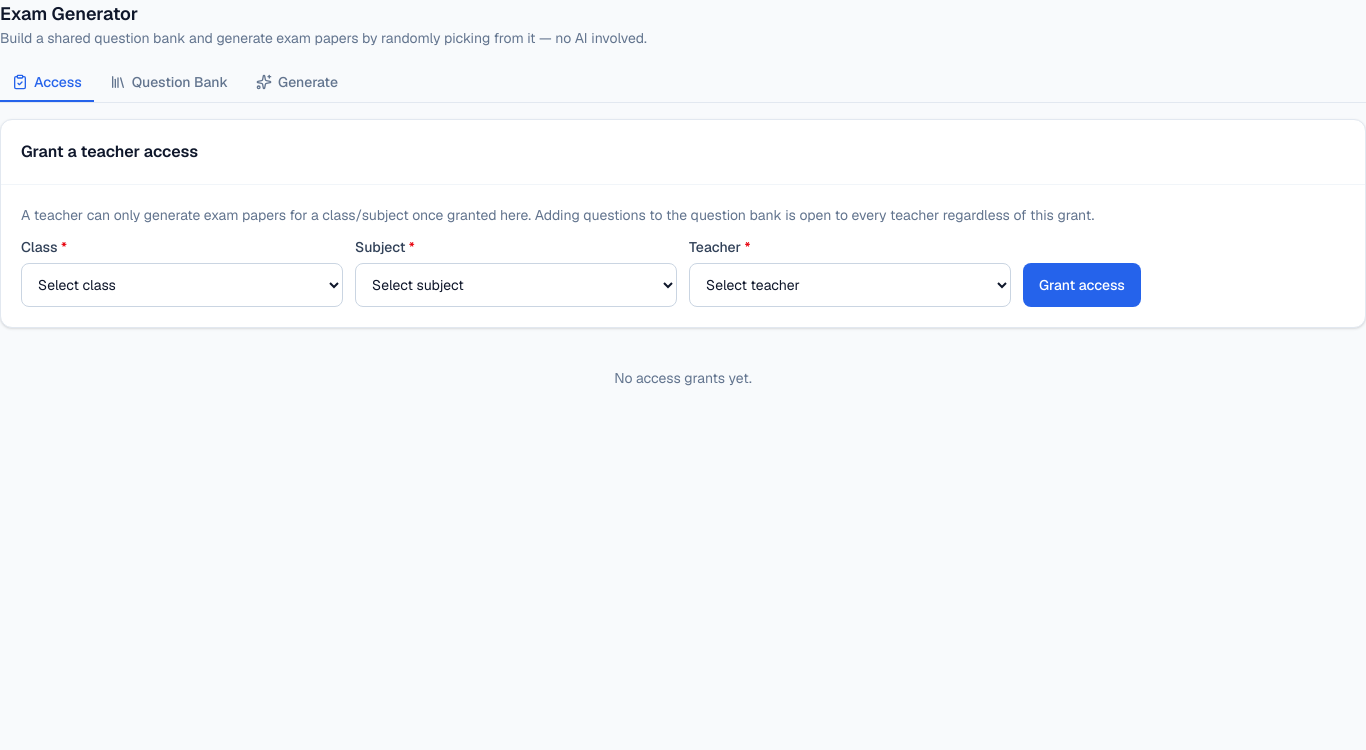
Scenario: ExamGeneratorPage › Question Bank tab › switches fields by question type and validates MCQ options before submitting
This screenshot has width=1366, height=750.
Step 1. Click the button "Question Bank" → (169, 83), box [98,64,240,102]
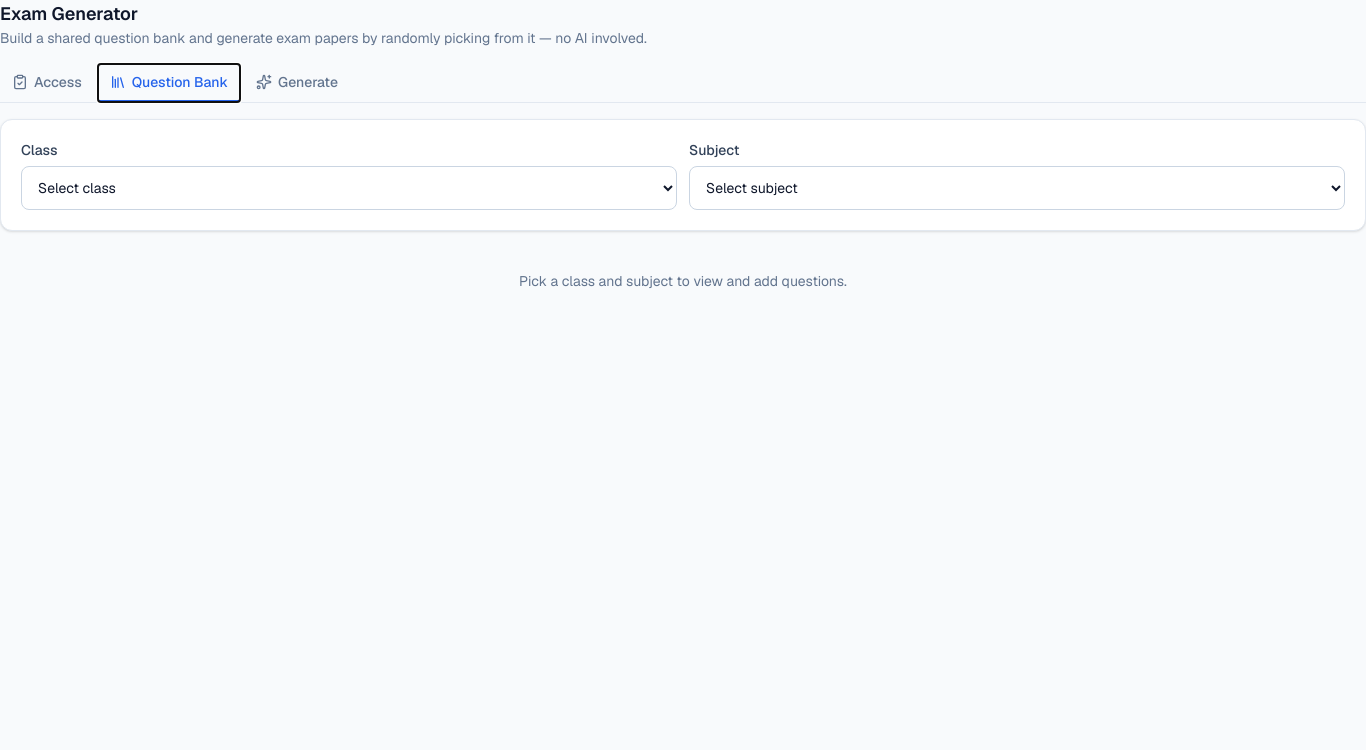
Step 2. Select "Class 5" in the dropdown labelled "Class" → (349, 188), box [21,166,677,210]
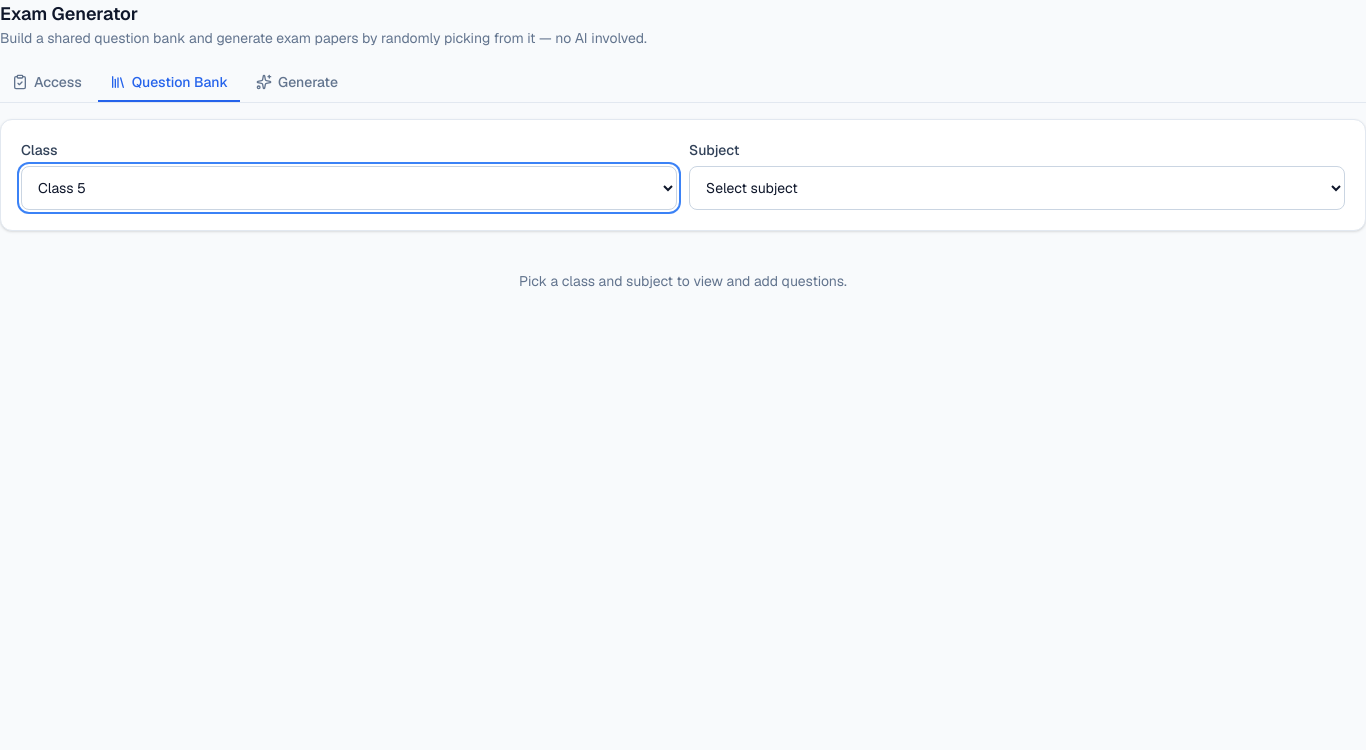
Step 3. Select "Mathematics" in the dropdown labelled "Subject" → (1017, 188), box [689,166,1345,210]
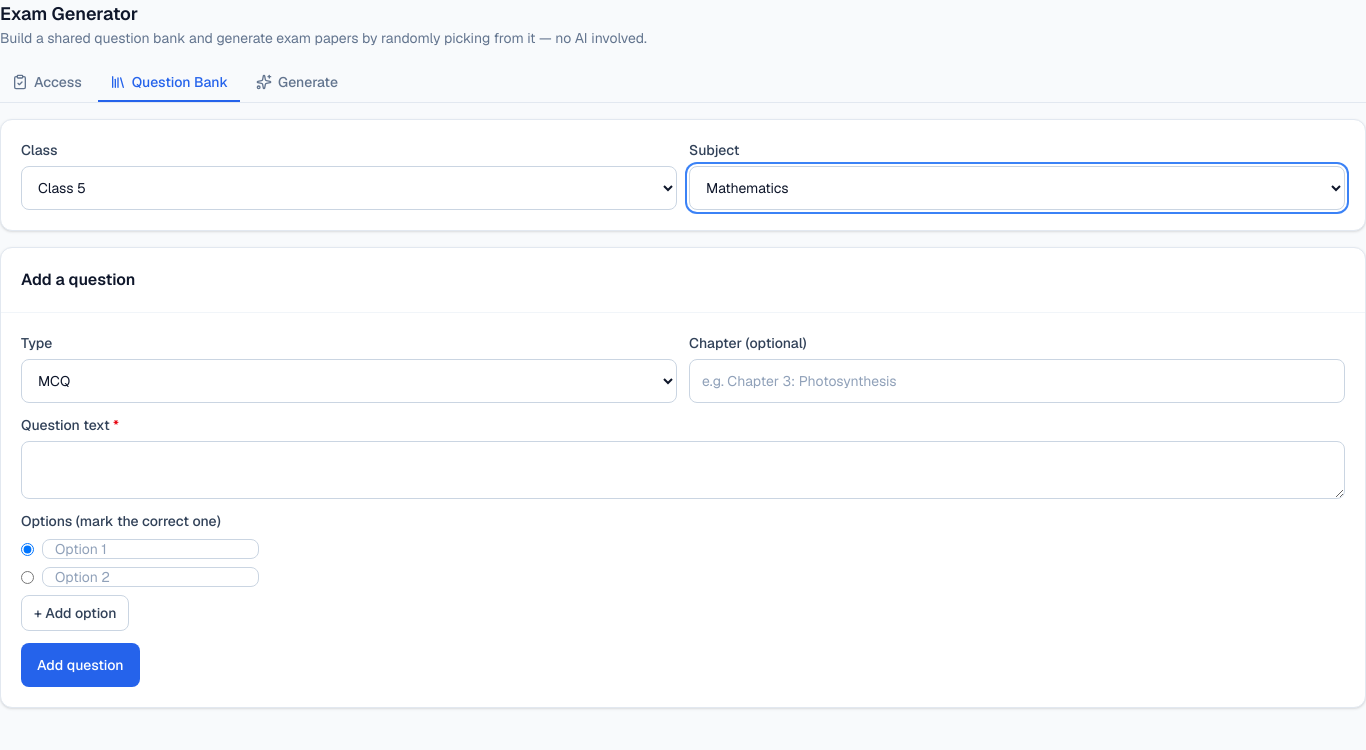
Expected: the text "Options (mark the correct one)" is shown, [21,512,221,530]
Step 4. Click the button "Add question" → (80, 665), box [21,643,140,687]
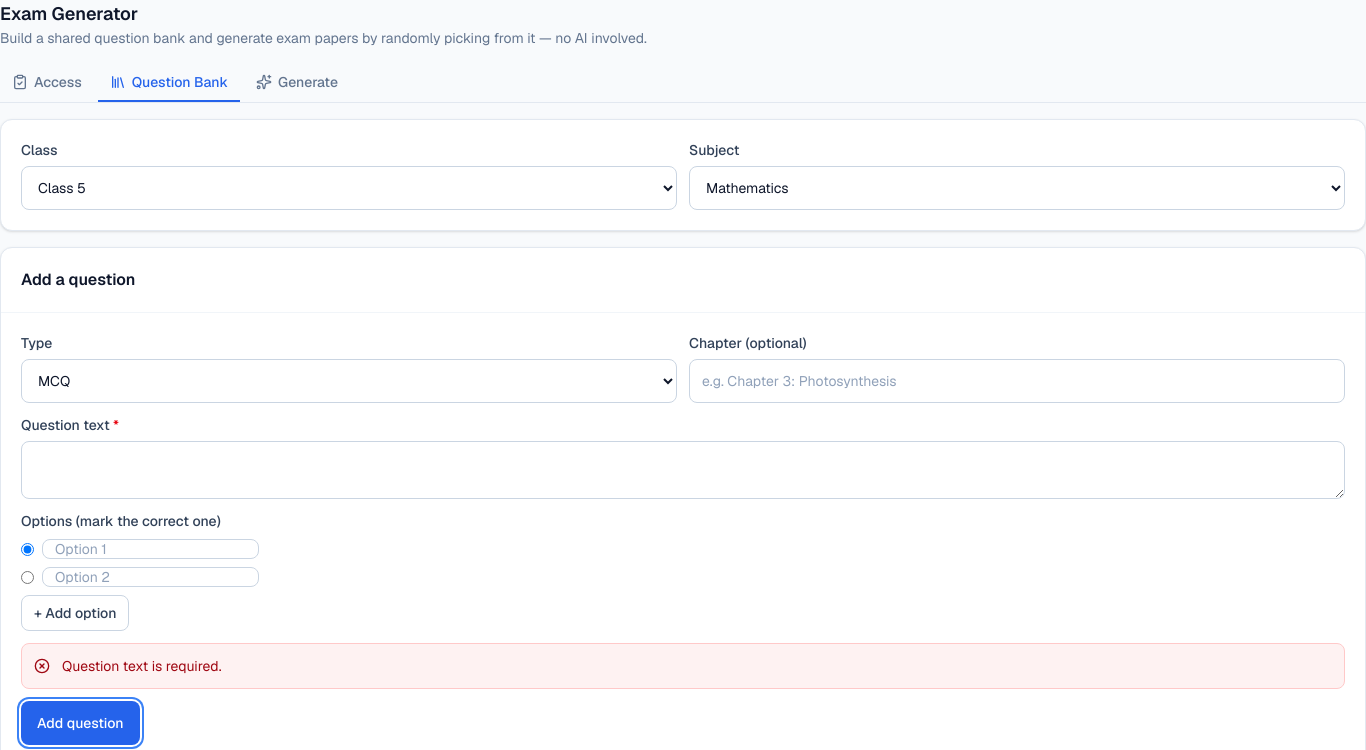
Expected: the text "Question text is required." is shown, [62,656,222,676]
Step 5. Select "Short Answer" in the dropdown labelled "Type" → (349, 381), box [21,359,677,403]
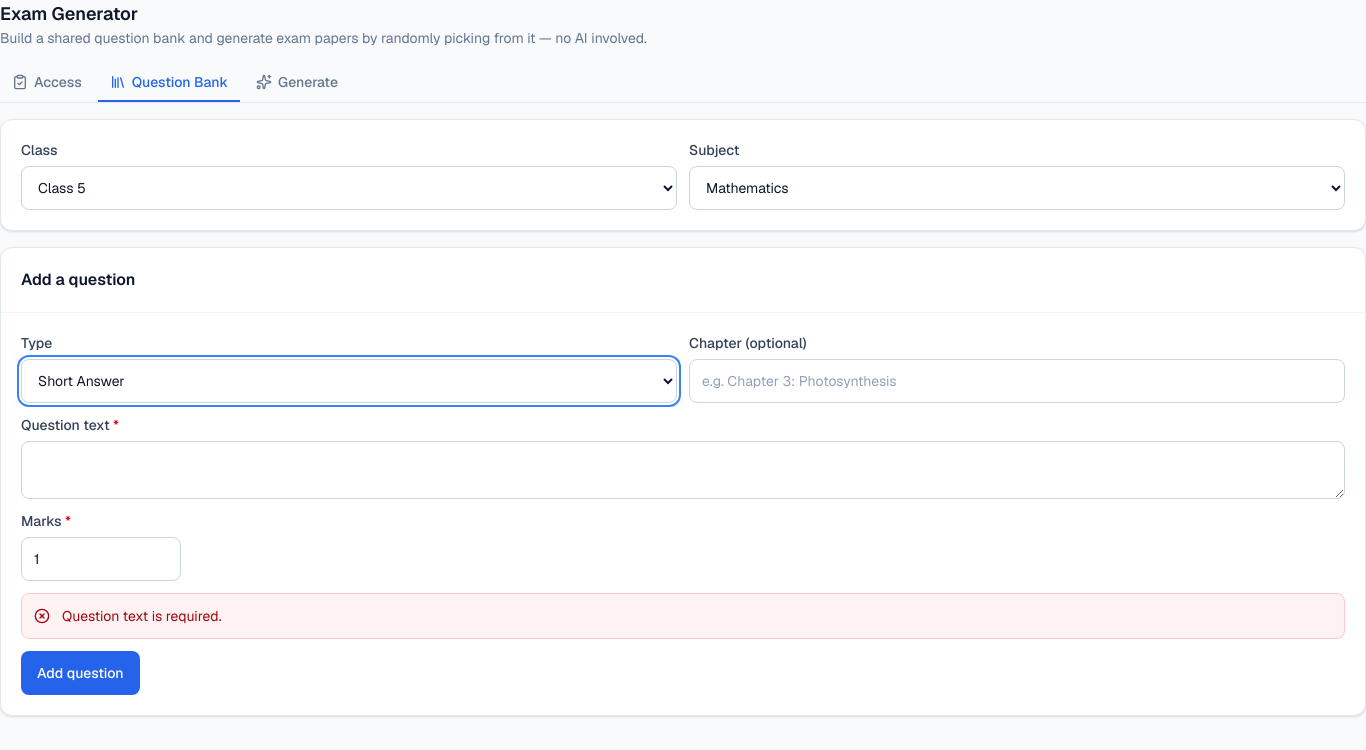
Expected: the text "Options (mark the correct one)" is gone
Expected: the number field labelled "Marks *" is shown, [21,537,181,581]
